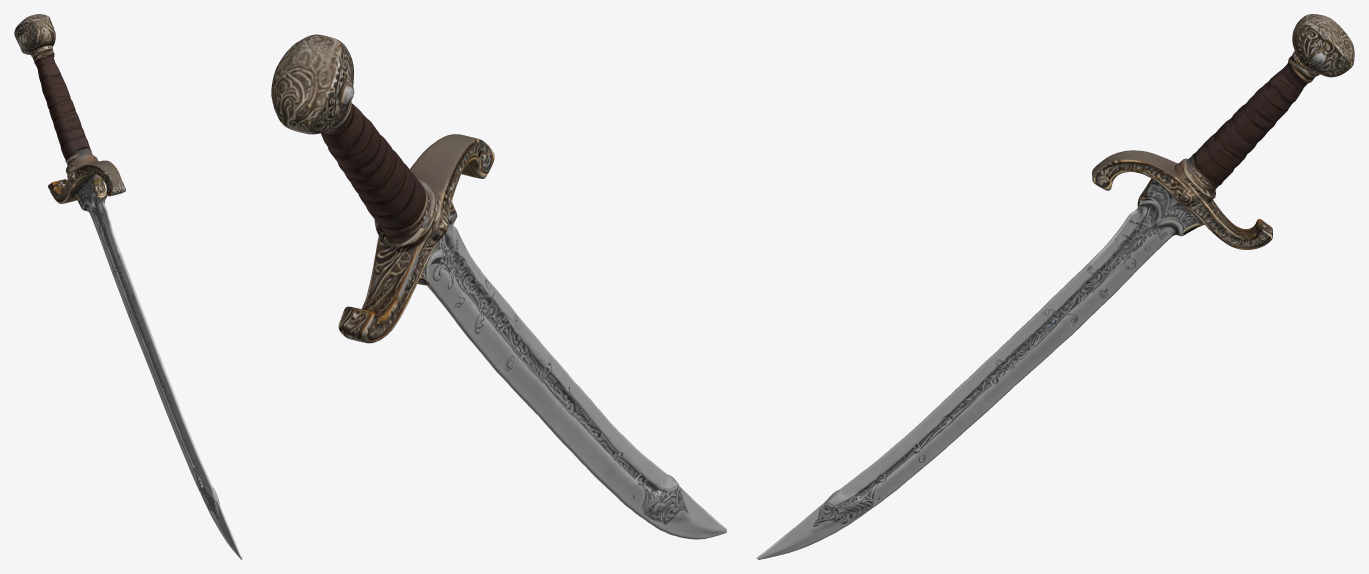
Rendered from mech.fbx.
The picture shows the model from 3 angles, left to right: view 1: azimuth 30°, elevation 25°; view 2: azimuth 150°, elevation 25°; view 3: azimuth 270°, elevation 25°; orthographic projection. The views are drawn at different scales.
Parts seen in each view (by area): view 1: tripo_node_2315d112; view 2: tripo_node_2315d112; view 3: tripo_node_2315d112.
Part boxes in pixels (x1,y1,x2,y2): tripo_node_2315d112: [14, 14, 242, 559]; tripo_node_2315d112: [271, 34, 726, 539]; tripo_node_2315d112: [756, 14, 1354, 559].
Size of the model in its own units: 9.39 by 99.76 by 99.73.
Materials: 1 (1 with a texture image).
